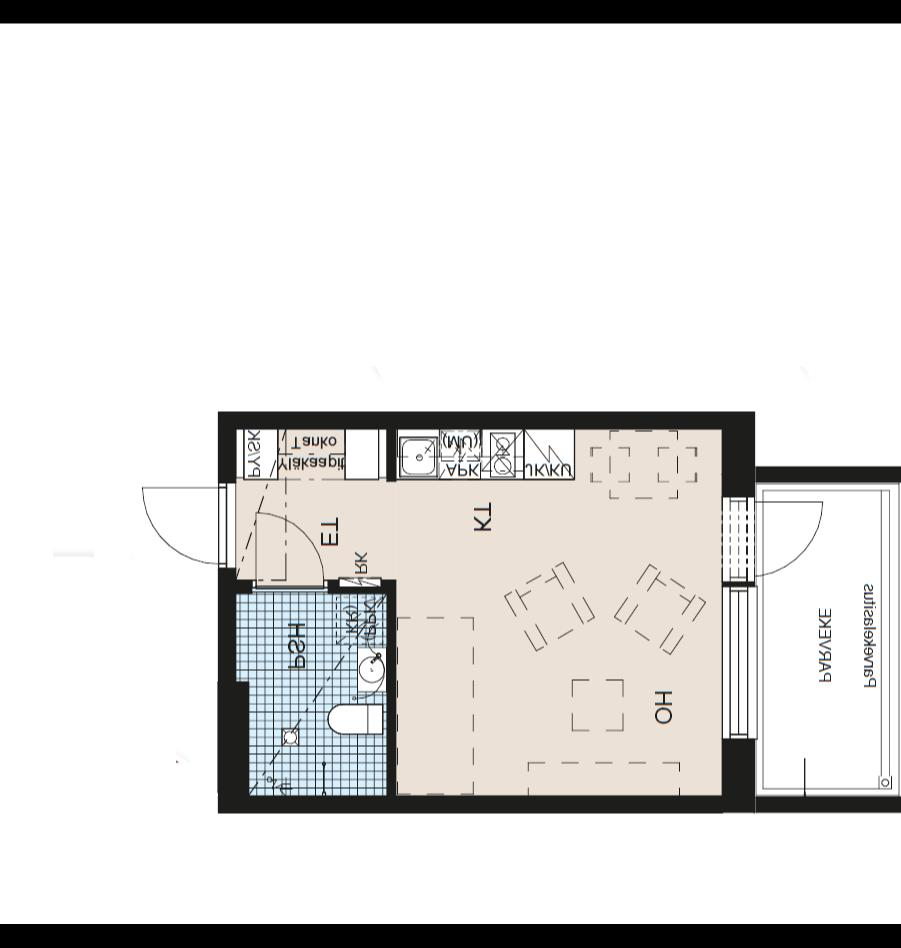door: (138, 478, 234, 569), (735, 496, 827, 584), (246, 505, 328, 596)
window: (712, 582, 760, 748)
